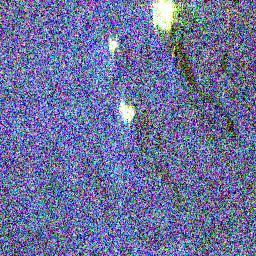Ship: (153, 1, 178, 29), (117, 102, 137, 124), (106, 35, 122, 54)
